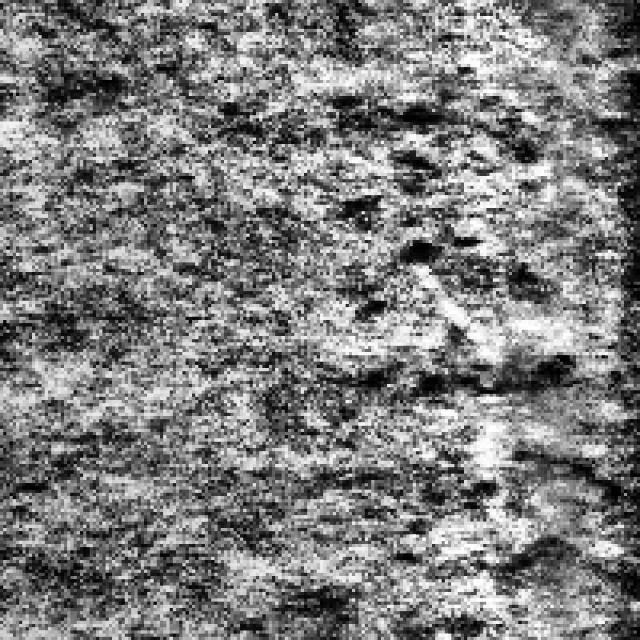Crazing: (378, 96, 548, 390)
